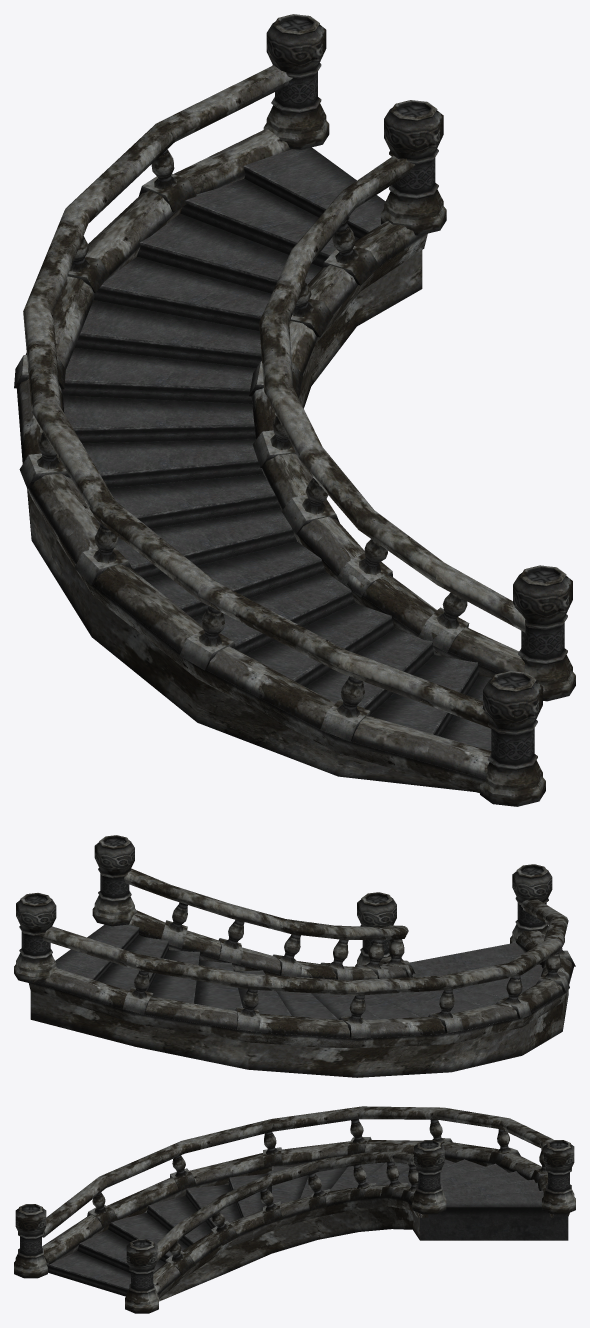
The model's file is round_floating_left.dae.
The picture shows the model from 3 angles, top to bottom: view 1: azimuth 30°, elevation 25°; view 2: azimuth 150°, elevation 25°; view 3: azimuth 270°, elevation 25°; orthographic projection. The views are drawn at different scales.
Parts seen in each view (by area): view 1: polySurface114, polySurface113, polySurface112; view 2: polySurface113, polySurface114, polySurface112; view 3: polySurface113, polySurface114, polySurface112.
Boxes of the visible parts, <box> form: polySurface114: <box>27,147,491,791</box>; polySurface113: <box>14,65,525,793</box>; polySurface112: <box>263,14,575,806</box>; polySurface113: <box>29,868,575,1048</box>; polySurface114: <box>30,924,568,1077</box>; polySurface112: <box>14,835,552,983</box>; polySurface113: <box>42,1106,569,1298</box>; polySurface114: <box>46,1159,568,1301</box>; polySurface112: <box>14,1140,575,1313</box>.
Size of what is drawn, in the model's own units: 8.59 by 5.93 by 15.17.
